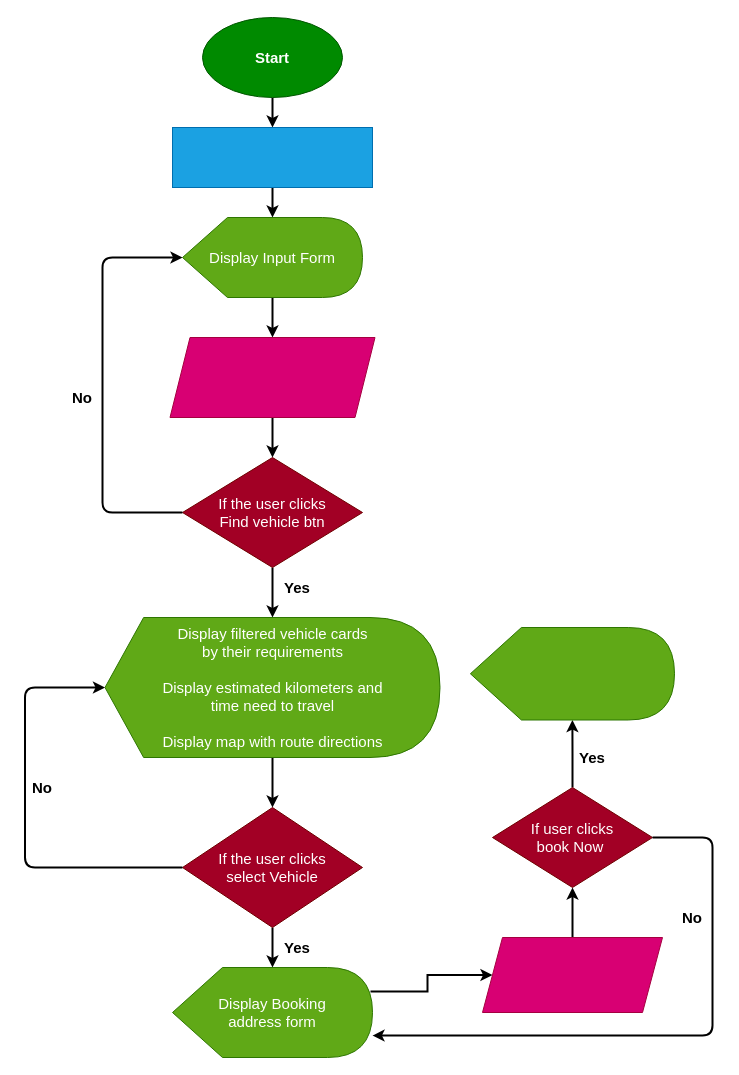
The diagram is 739 pixels wide and 1075 high, and some of its shapes have lost their labels. The shapes that lost their labels are listed below. From the top down, each one's centre as x and y in pixels, then its label:
point 272,157: Store all vehicle details in a array
point 272,377: Input Locations Date and the number of people travelling
point 571,673: Display booking confirmed alert
point 572,974: user Input booking address informations
